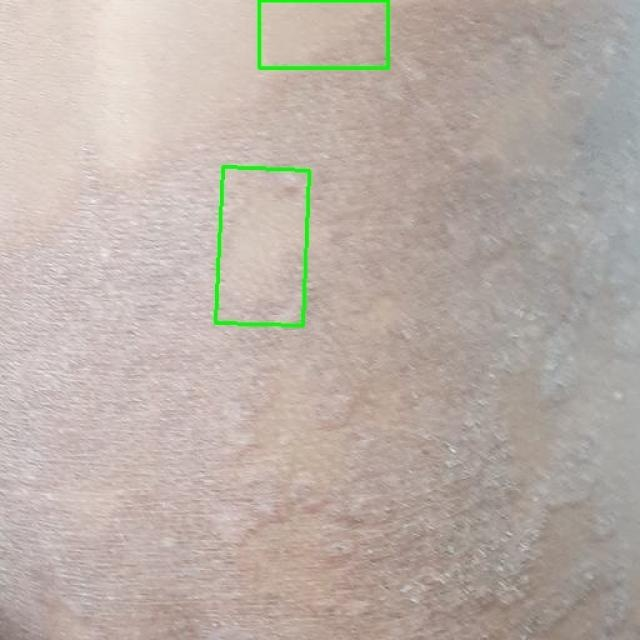Tinea Corporis: (216, 167, 309, 326), (259, 0, 388, 68)
